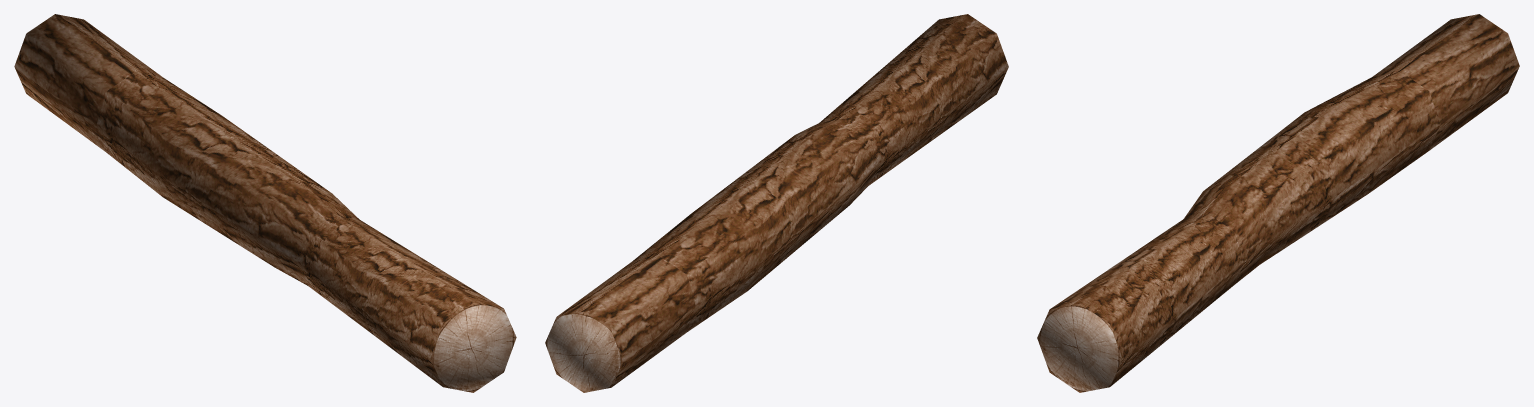
Rendered from log.obj.
3 renders of one model, left to right at view 1: azimuth 30°, elevation 25°; view 2: azimuth 150°, elevation 25°; view 3: azimuth 330°, elevation 25°, orthographic. The views are drawn at different scales.
Bounding box in the file's own units: 12.22 × 11.89 × 91.22.
1 material, 1 textured.
